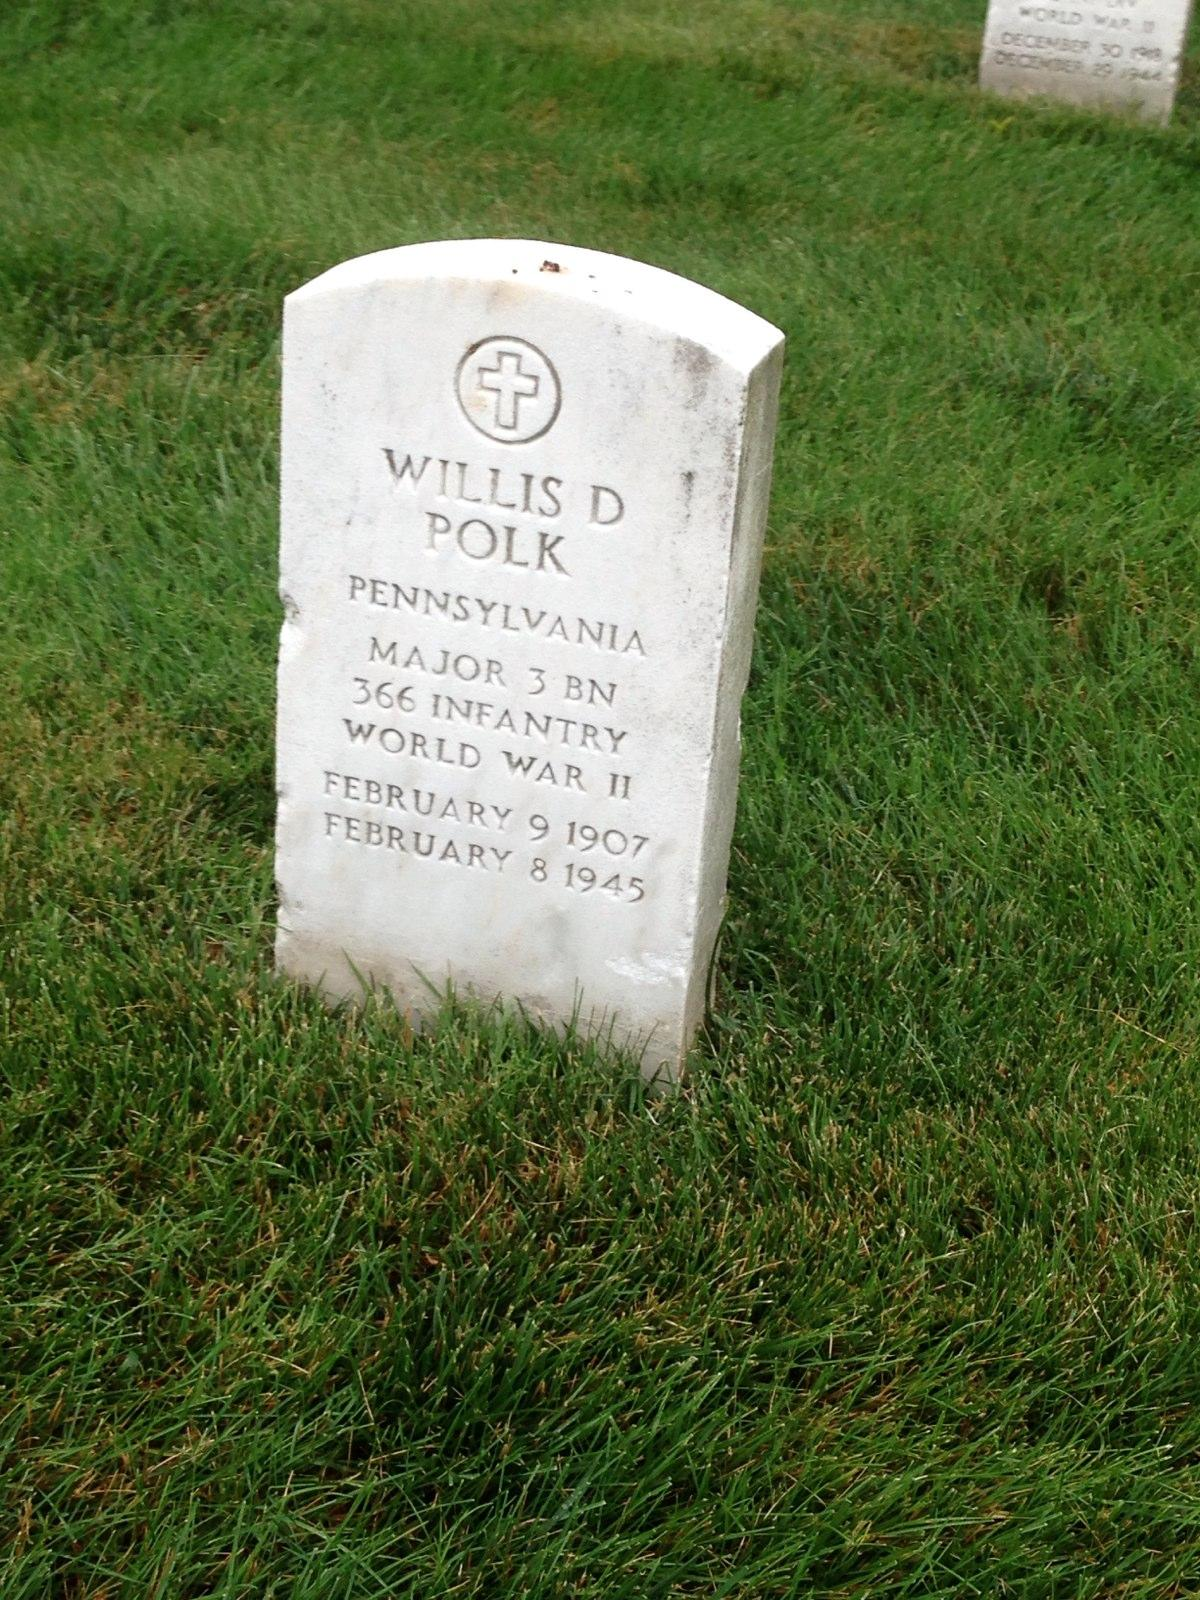military: (267, 198, 788, 1082)
